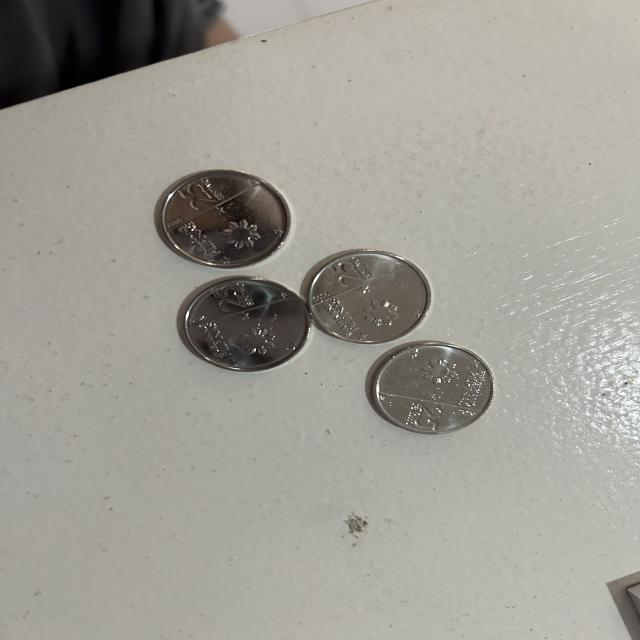25Cent_New_Front: (202, 280, 264, 317), (324, 255, 380, 290), (170, 178, 222, 212), (400, 398, 449, 431)
